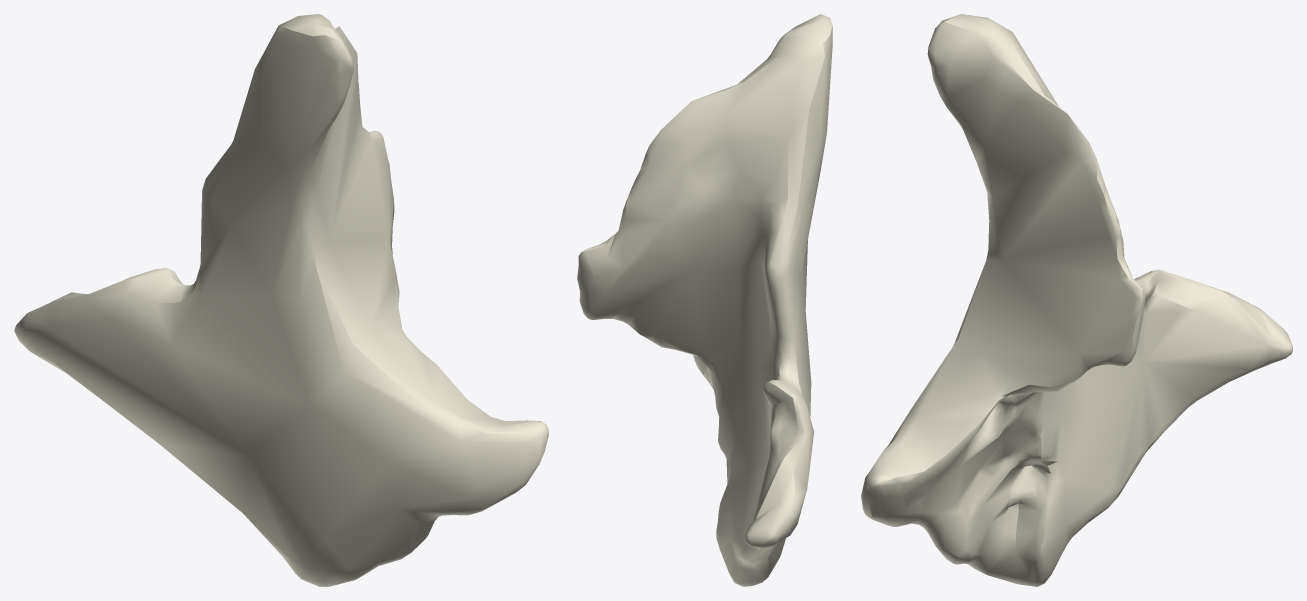
Rendered from fma52892_fj3392.glb.
The picture shows the model from 3 angles, left to right: view 1: azimuth 30°, elevation 25°; view 2: azimuth 150°, elevation 25°; view 3: azimuth 270°, elevation 25°; orthographic projection. The views are drawn at different scales.
Parts seen in each view (by area): view 1: FMA52892_FJ3392; view 2: FMA52892_FJ3392; view 3: FMA52892_FJ3392.
Boxes of the visible parts, x1,y1,x2,y2 form: FMA52892_FJ3392: (14, 14, 548, 586); FMA52892_FJ3392: (577, 14, 832, 586); FMA52892_FJ3392: (861, 14, 1292, 586).
Size of the model in its own units: 0.0313 by 0.056 by 0.0397.
